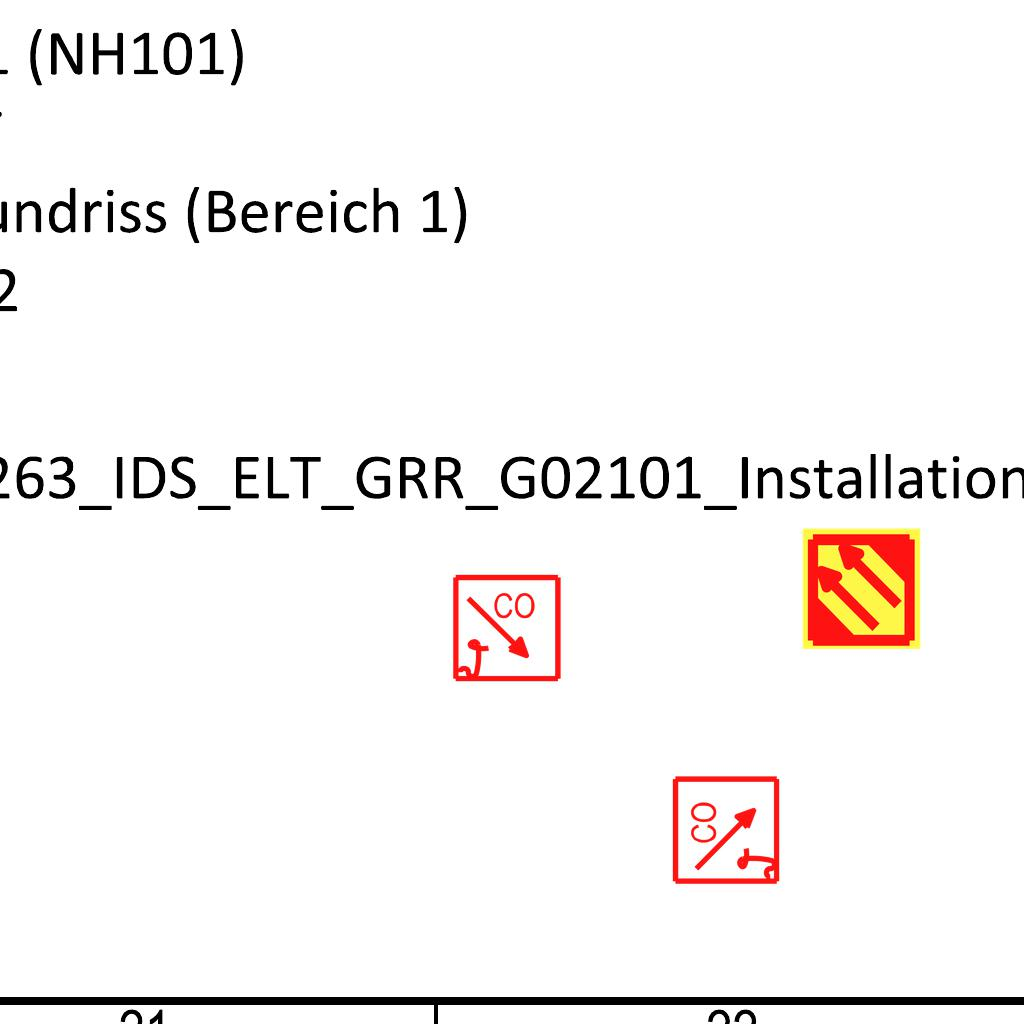ASR_Ansaugrauchmelder: (799, 526, 924, 651)
ROA_Rauchmelder_optisch_mit_Signalgeber_(Sockelsirene): (671, 773, 784, 886), (451, 573, 564, 686)
